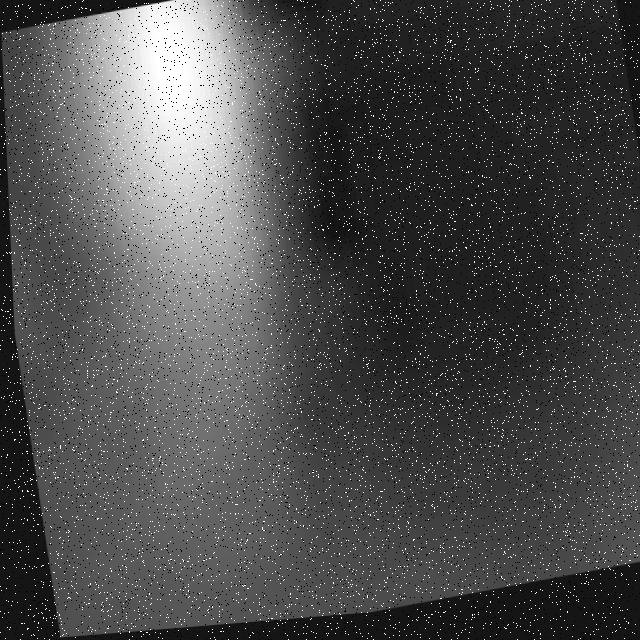person: (36, 1, 342, 510)
